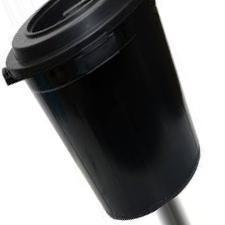Bote de Basura: (0, 0, 201, 224)
